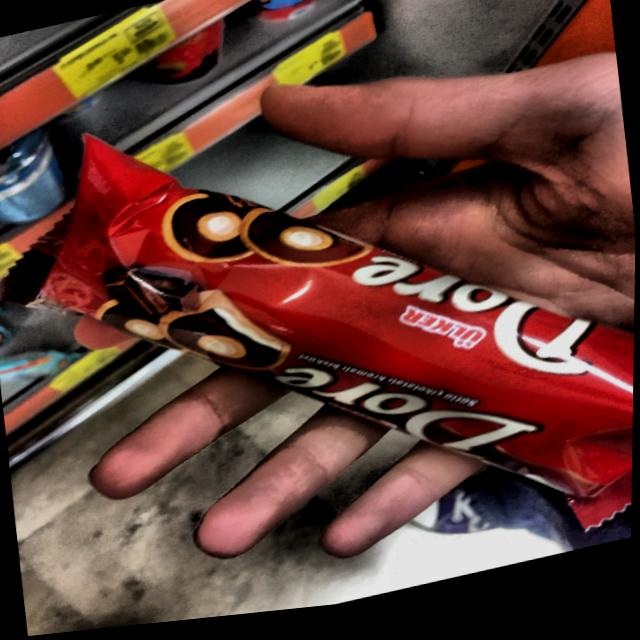Plastic: (0, 139, 635, 556)
